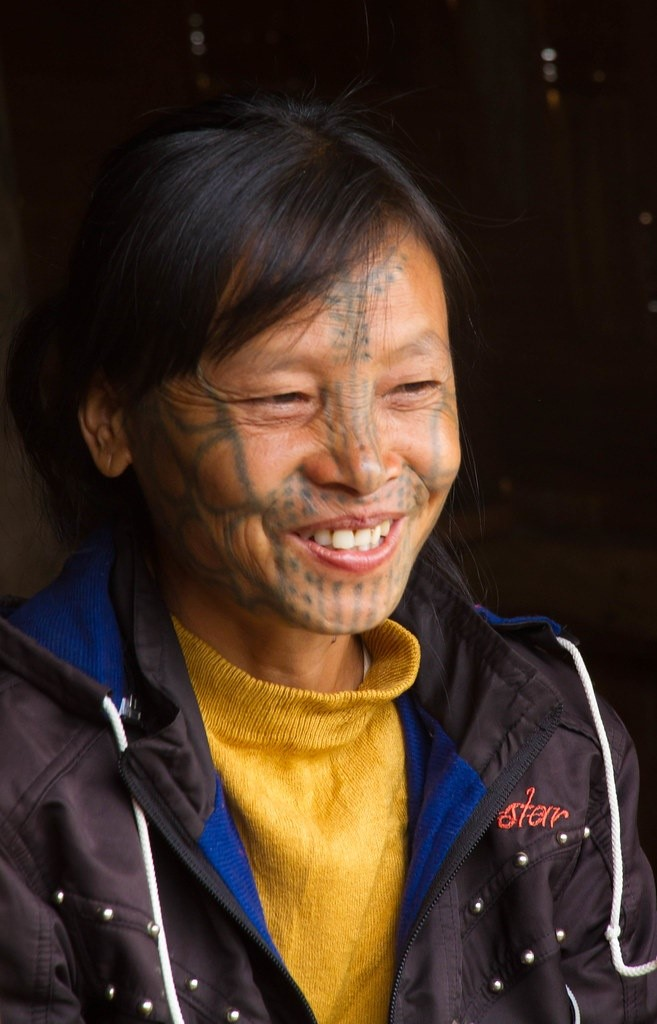face_no_mask: (71, 129, 462, 640)
